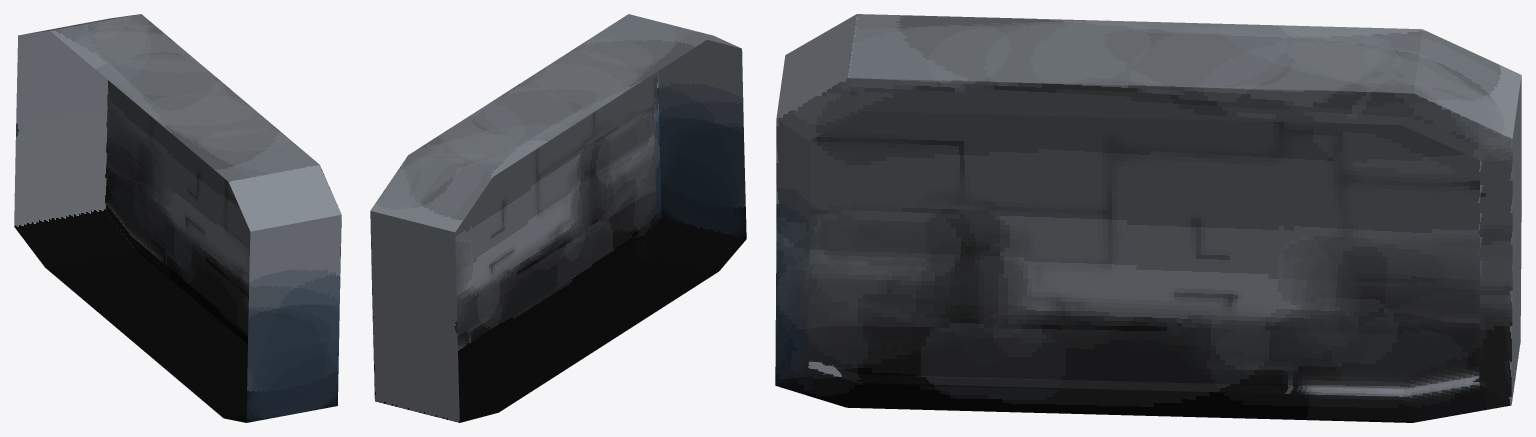
File: spaceShipObjects2Dorr.glb
The picture shows the model from 3 angles, left to right: view 1: azimuth 30°, elevation 25°; view 2: azimuth 150°, elevation 25°; view 3: azimuth 270°, elevation 25°; orthographic projection. The views are drawn at different scales.
Visible parts, largest first — view 1: Cube.012; view 2: Cube.012; view 3: Cube.012.
Boxes of the visible parts, x1=… form: Cube.012: x1=14, y1=14, x2=341, y2=422; Cube.012: x1=370, y1=14, x2=746, y2=422; Cube.012: x1=775, y1=14, x2=1521, y2=422.
Bounding box in the file's own units: 5.95 × 11.22 × 22.51.
Materials: 1 (1 with a texture image).
